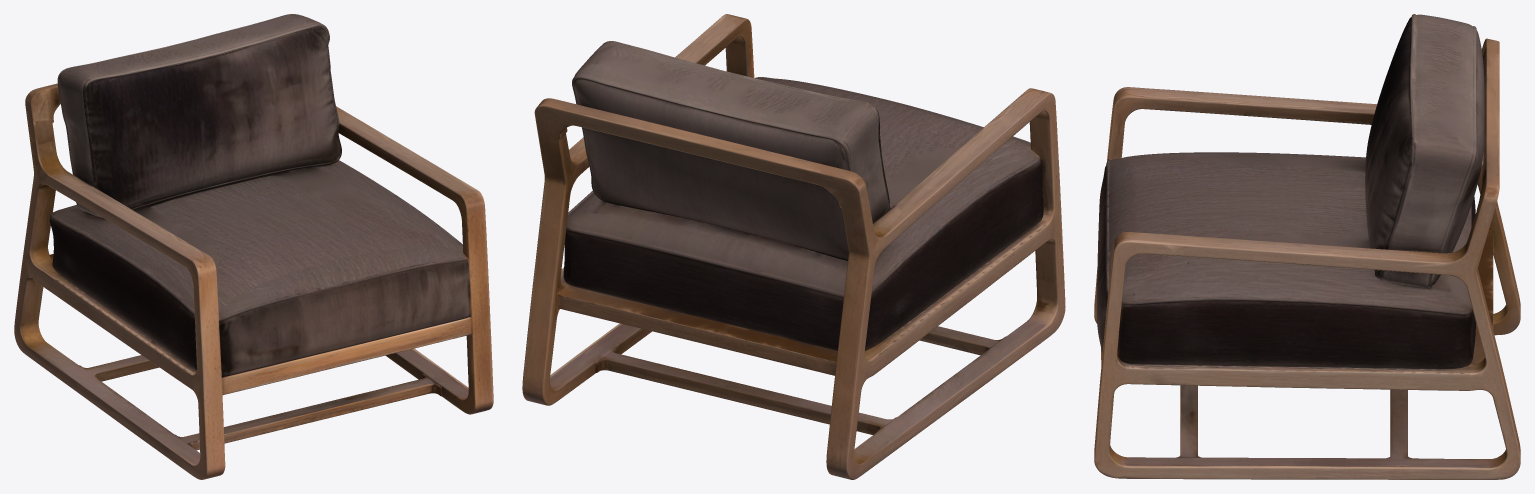
The model's file is c03-realistic.glb.
The picture shows the model from 3 angles, left to right: view 1: azimuth 30°, elevation 25°; view 2: azimuth 150°, elevation 25°; view 3: azimuth 270°, elevation 25°; orthographic projection. The views are drawn at different scales.
Visible parts, largest first — view 1: node_0; view 2: node_0; view 3: node_0.
Boxes of the visible parts, left/top/right/bottom form: node_0: left=14, top=14, right=493, bottom=479; node_0: left=522, top=14, right=1065, bottom=479; node_0: left=1094, top=14, right=1520, bottom=479.
Size of the model in its own units: 0.6733 by 0.6635 by 0.7832.
Materials: 1 (1 with a texture image).
